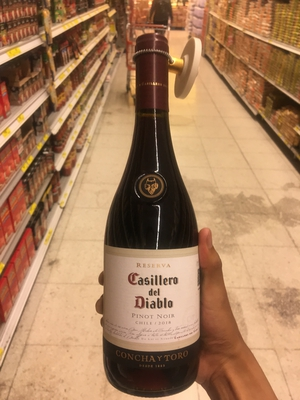casillero del diablo pinot noir: (102, 48, 220, 397)
